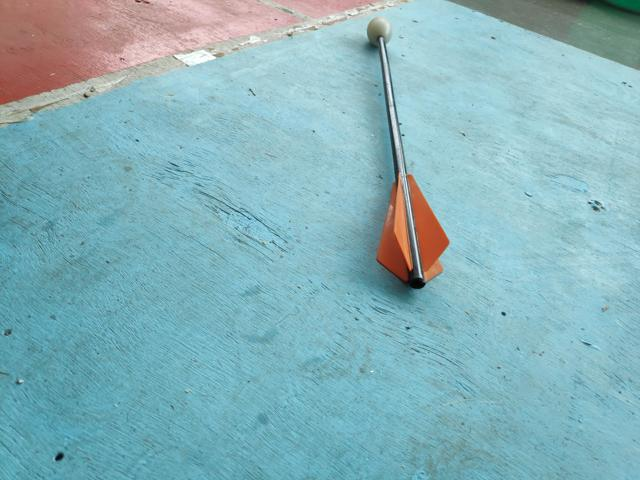Head: (364, 14, 394, 47)
Tail: (372, 174, 456, 293)
